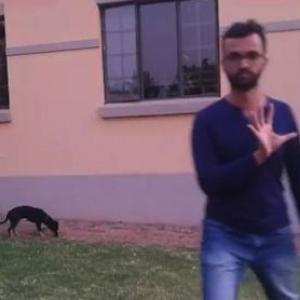follow_hand: (241, 94, 299, 160)
